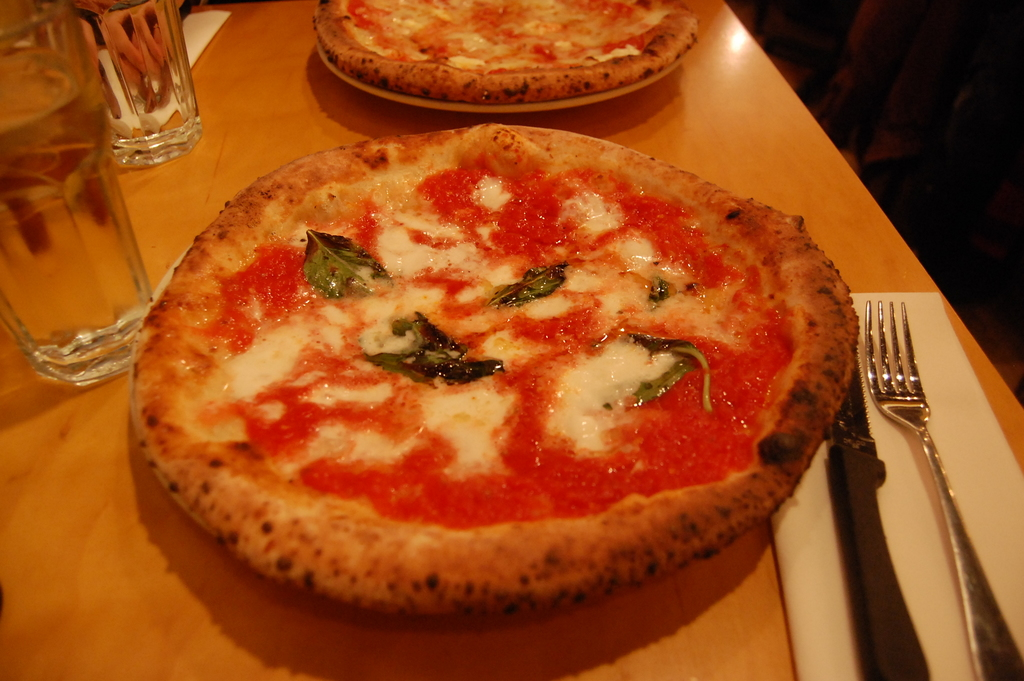Pizza: (131, 98, 884, 627), (313, 0, 705, 110)
